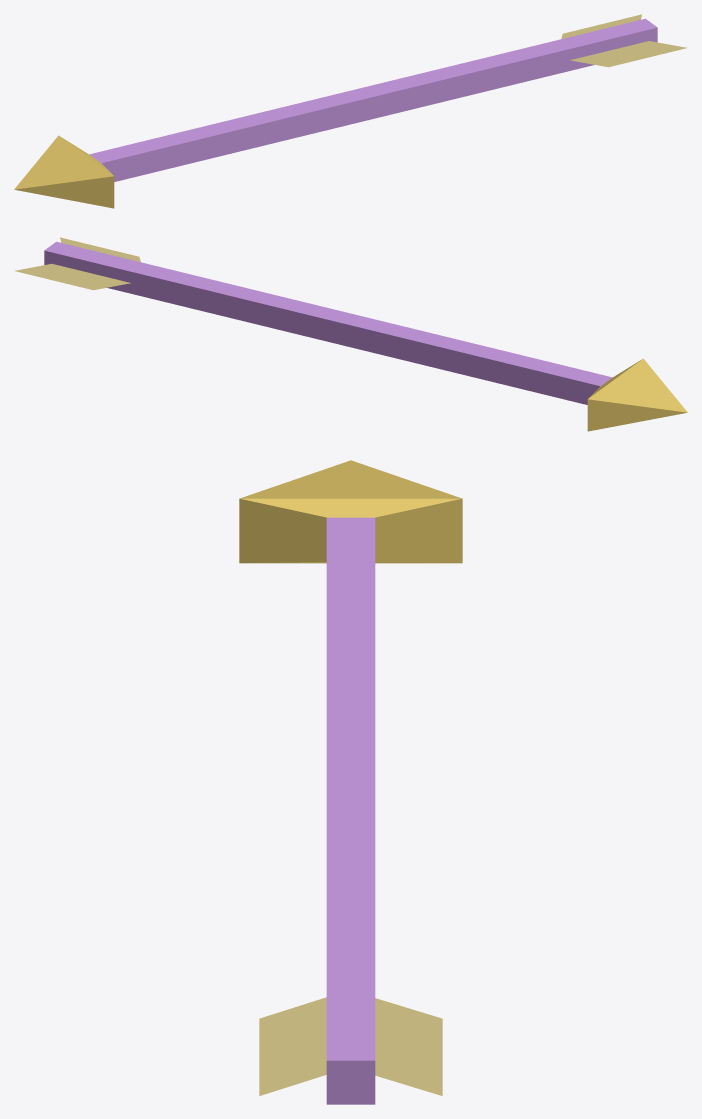
Rendered from Ammo_Crossbow.fbx.
The picture shows the model from 3 angles, top to bottom: view 1: azimuth 30°, elevation 25°; view 2: azimuth 150°, elevation 25°; view 3: azimuth 270°, elevation 25°; orthographic projection. The views are drawn at different scales.
Parts seen in each view (by area): view 1: Arrow_Harpoon; view 2: Arrow_Harpoon; view 3: Arrow_Harpoon.
Part boxes in pixels (x1=…): Arrow_Harpoon: x1=14, y1=14, x2=686, y2=208; Arrow_Harpoon: x1=15, y1=237, x2=687, y2=431; Arrow_Harpoon: x1=239, y1=460, x2=462, y2=1104.
Size of the model in its own units: 8.19 by 0.389 by 1.22.
